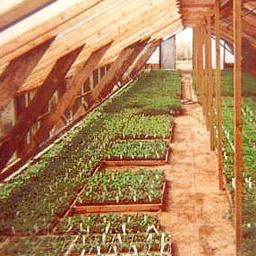Matera: (64, 214, 166, 255), (92, 175, 164, 209), (106, 142, 165, 161)
